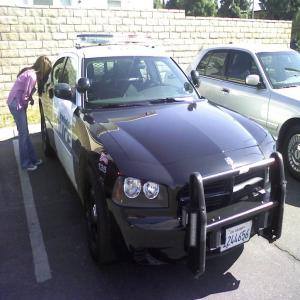Vehicle-registration-plate: (225, 220, 253, 249)
